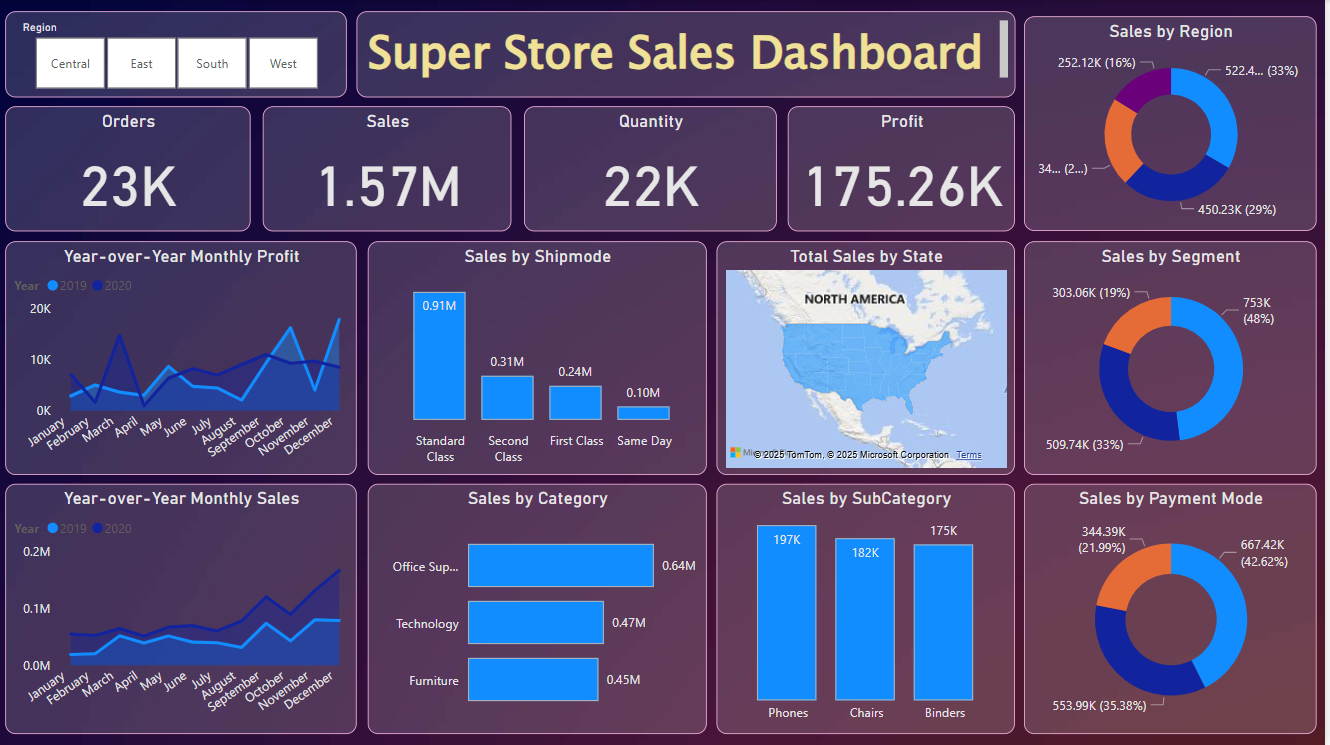

This screenshot's page, from the dashboard's own definition file:
{"tool":"powerbi","page":{"name":"Page 1","canvas":[1280,720],"ordinal":0},"visuals":[{"type":"barChart","title":"Sales by Category","fields":{"Y":["Sum(SuperStore_Sales_Dataset.Sales)"],"Category":["SuperStore_Sales_Dataset.Category"]},"box":[355.9,466.9,326.9,241.3],"z":0},{"type":"columnChart","title":"Sales by SubCategory","fields":{"Category":["SuperStore_Sales_Dataset.Sub-Category"],"Y":["Sum(SuperStore_Sales_Dataset.Sales)"]},"box":[692.5,466.9,288.3,241.3],"z":1000},{"type":"columnChart","title":"Sales by Shipmode","fields":{"Category":["SuperStore_Sales_Dataset.Ship Mode"],"Y":["Sum(SuperStore_Sales_Dataset.Sales)"]},"box":[355.9,232.8,326.9,225.6],"z":2000},{"type":"areaChart","title":"Year-over-Year Monthly Sales","fields":{"Y":["Sum(SuperStore_Sales_Dataset.Sales)"],"Category":["SuperStore_Sales_Dataset.Order Date.Variation.Date Hierarchy.Month","SuperStore_Sales_Dataset.Order Date.Variation.Date Hierarchy.Day"],"Series":["SuperStore_Sales_Dataset.Order Date.Variation.Date Hierarchy.Year"]},"box":[6,466.9,339,241.3],"z":3000},{"type":"areaChart","title":"Year-over-Year Monthly Profit","fields":{"Category":["SuperStore_Sales_Dataset.Order Date.Variation.Date Hierarchy.Month","SuperStore_Sales_Dataset.Order Date.Variation.Date Hierarchy.Day"],"Series":["SuperStore_Sales_Dataset.Order Date.Variation.Date Hierarchy.Year"],"Y":["Sum(SuperStore_Sales_Dataset.Profit)"]},"box":[6,232.8,339,225.6],"z":4000},{"type":"donutChart","title":"Sales by Segment","fields":{"Y":["Sum(SuperStore_Sales_Dataset.Sales)"],"Category":["SuperStore_Sales_Dataset.Segment"]},"box":[989.3,232.8,282.3,225.6],"z":5000},{"type":"donutChart","title":"Sales by Payment Mode","fields":{"Y":["Sum(SuperStore_Sales_Dataset.Sales)"],"Category":["SuperStore_Sales_Dataset.Payment Mode"]},"box":[989.3,466.9,282.3,241.3],"z":6000},{"type":"slicer","fields":{"Values":["SuperStore_Sales_Dataset.Region"]},"box":[6,10.9,329.4,83.2],"z":7000},{"type":"card","title":"Sales","fields":{"Values":["SuperStore_Sales_Dataset.Total_sales"]},"box":[254.6,102.5,240.1,120.6],"z":8000},{"type":"card","title":"Quantity","fields":{"Values":["Sum(SuperStore_Sales_Dataset.Quantity)"]},"box":[506.7,102.5,243.7,120.6],"z":9000},{"type":"card","title":"Orders","fields":{"Values":["Sum(SuperStore_Sales_Dataset.AgeDelivery)"]},"box":[6,102.5,236.5,120.6],"z":10000},{"type":"card","title":"Profit","fields":{"Values":["Sum(SuperStore_Sales_Dataset.Profit)"]},"box":[761.3,102.5,219.6,120.6],"z":11000},{"type":"donutChart","title":"Sales by Region","fields":{"Y":["Sum(SuperStore_Sales_Dataset.Sales)"],"Category":["SuperStore_Sales_Dataset.Region"]},"box":[989.3,10.9,282.3,212.3],"z":12000},{"type":"textbox","box":[345,10.9,635.8,83.2],"z":13000},{"type":"filledMap","title":"Total Sales by State","fields":{"Category":["SuperStore_Sales_Dataset.State"]},"box":[692.5,232.8,288.3,225.6],"z":14000}]}

Visuals, with their boxes in screenshot pixels (x1, y1, x2, y2), scaled from the page's 1280x720 canvas onto the 1330x745 screenshot:
"Sales by Category" barChart: left=370, top=483, right=709, bottom=733
"Sales by SubCategory" columnChart: left=720, top=483, right=1019, bottom=733
"Sales by Shipmode" columnChart: left=370, top=241, right=709, bottom=474
"Year-over-Year Monthly Sales" areaChart: left=6, top=483, right=358, bottom=733
"Year-over-Year Monthly Profit" areaChart: left=6, top=241, right=358, bottom=474
"Sales by Segment" donutChart: left=1028, top=241, right=1321, bottom=474
"Sales by Payment Mode" donutChart: left=1028, top=483, right=1321, bottom=733
slicer - SuperStore_Sales_Dataset.Region: left=6, top=11, right=349, bottom=97
"Sales" card: left=265, top=106, right=514, bottom=231
"Quantity" card: left=526, top=106, right=780, bottom=231
"Orders" card: left=6, top=106, right=252, bottom=231
"Profit" card: left=791, top=106, right=1019, bottom=231
"Sales by Region" donutChart: left=1028, top=11, right=1321, bottom=231
textbox: left=358, top=11, right=1019, bottom=97
"Total Sales by State" filledMap: left=720, top=241, right=1019, bottom=474
